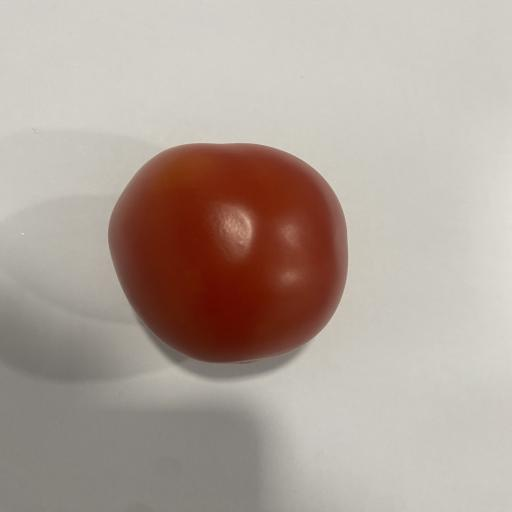ripe: (108, 144, 348, 363)
